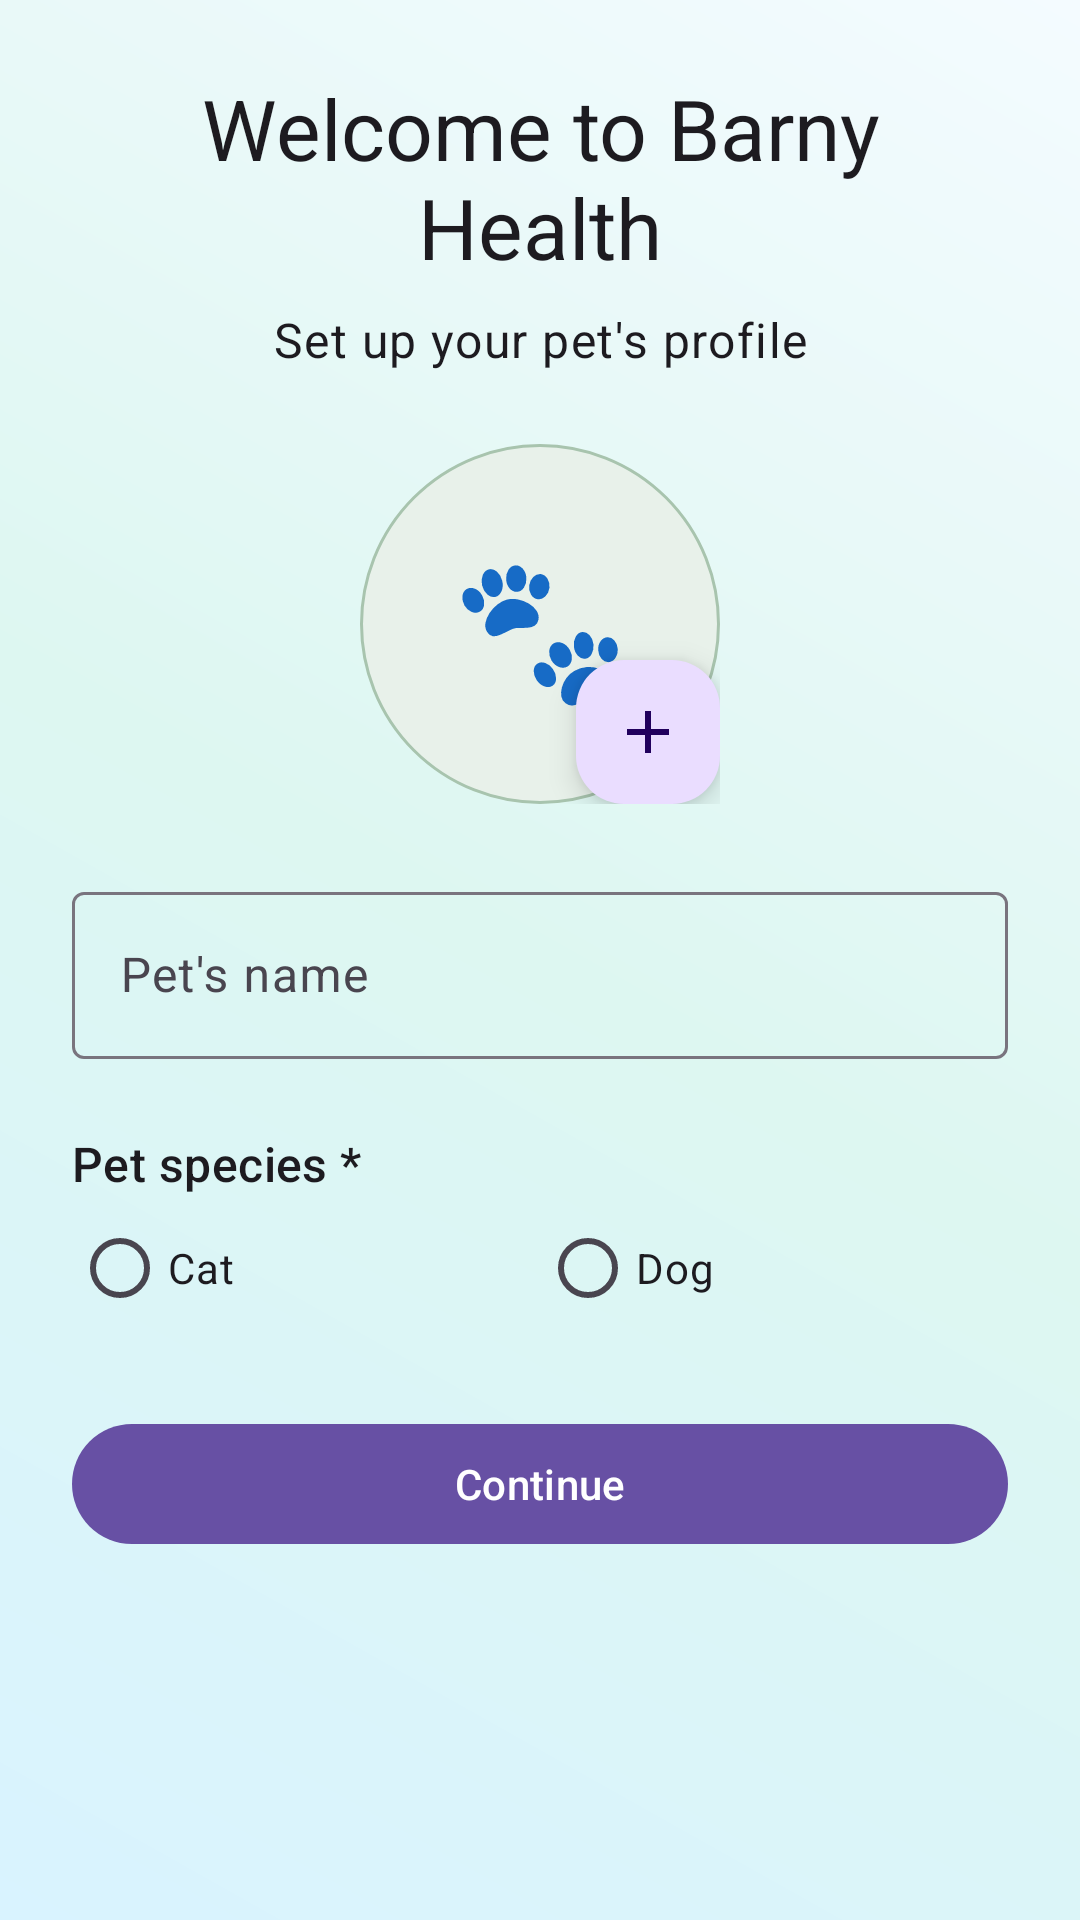

Where icons sit on this 1080 × 1920 app screen, as (x1,y1,x2,y2):
Select pet photo: (576,660,720,804)
